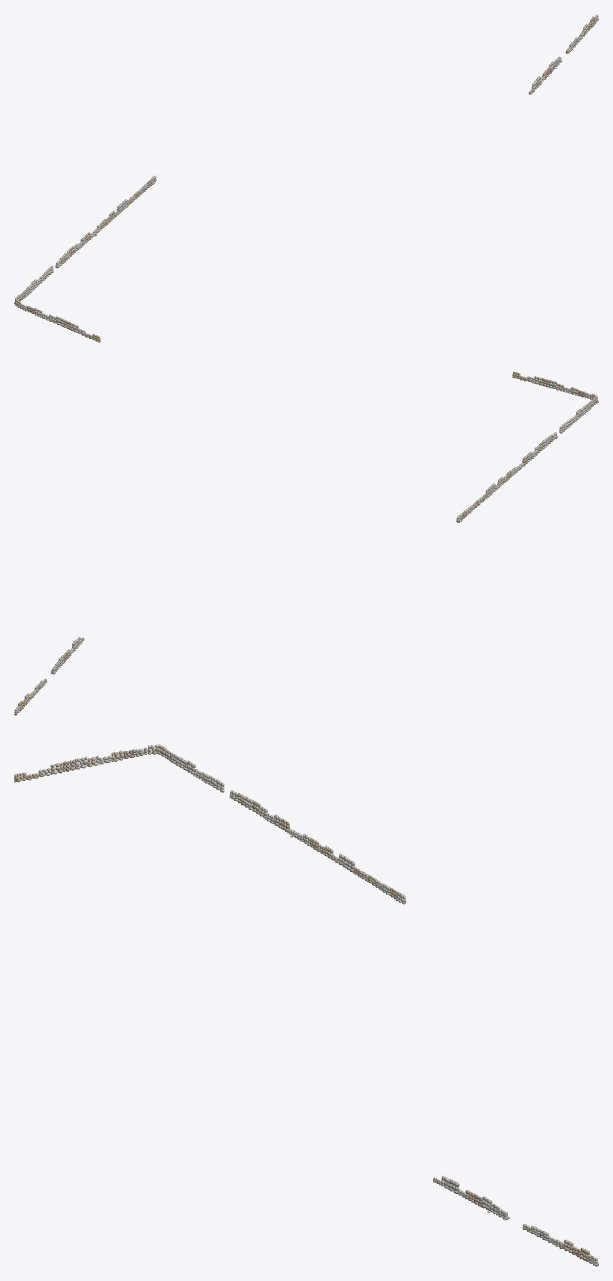
The model's file is farm_8_20_near.glb.
3 renders of one model, top to bottom at view 1: azimuth 30°, elevation 25°; view 2: azimuth 210°, elevation 25°; view 3: azimuth 270°, elevation 25°, orthographic. The views are drawn at different scales.
Parts seen in each view (by area): view 1: geometry_0; view 2: geometry_0; view 3: geometry_0.
Boxes of the visible parts, x1,y1,x2,y2 form: geometry_0: (14,14,598,342); geometry_0: (14,371,598,715); geometry_0: (14,744,598,1266).
Size of the model in its own units: 143 by 4.4 by 71.55.
